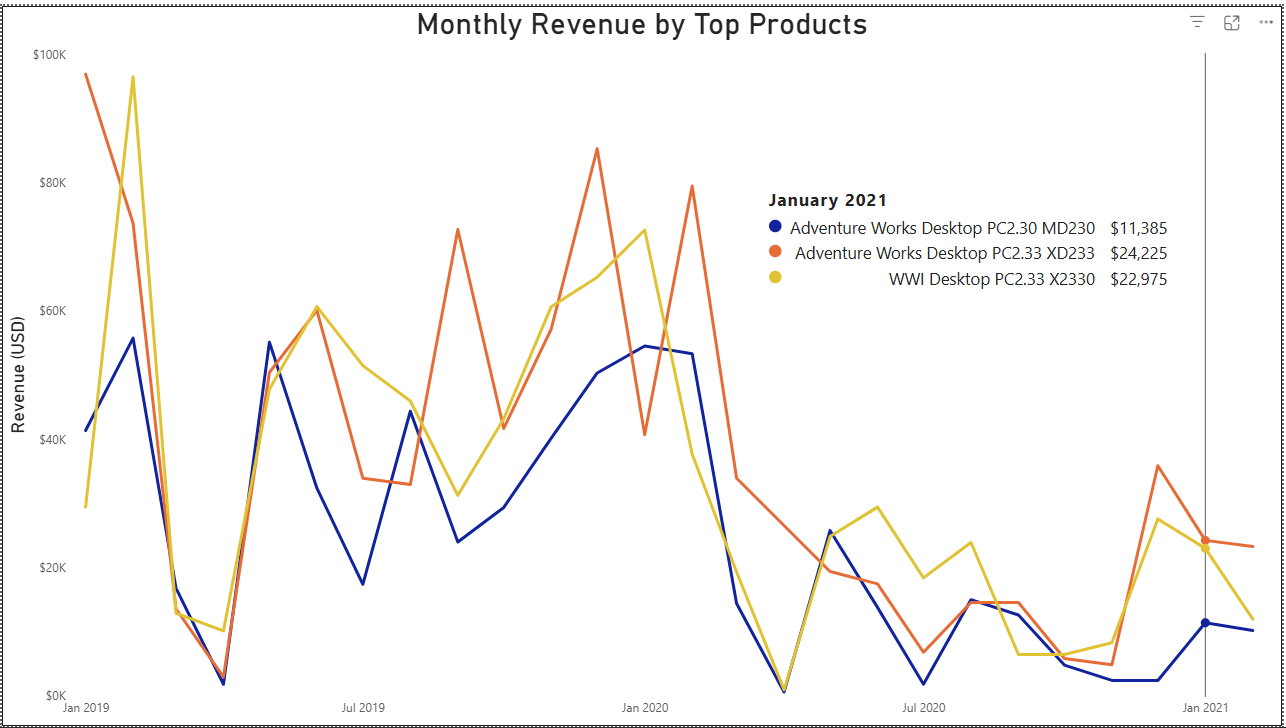

The dashboard page shown, as its layout file describes it:
{"tool":"powerbi","page":{"name":"Monthly Revenue by Top Products","canvas":[1280,720],"ordinal":2},"visuals":[{"type":"lineChart","title":"Monthly Revenue by Top Products","fields":{"Y":["Sum(tbl_qry_sales_cleaned.usd_price)"],"Category":["tbl_qry_sales_cleaned.order_month"],"Series":["tbl_qry_products.product_name_(no_color)"]},"box":[0,0,1280,720],"z":0}]}

Visuals, with their boxes in screenshot pixels (x1, y1, x2, y2), scaled from the page's 1280x720 canvas onto the 1286x728 screenshot:
"Monthly Revenue by Top Products" lineChart: bbox=(0, 0, 1285, 727)
